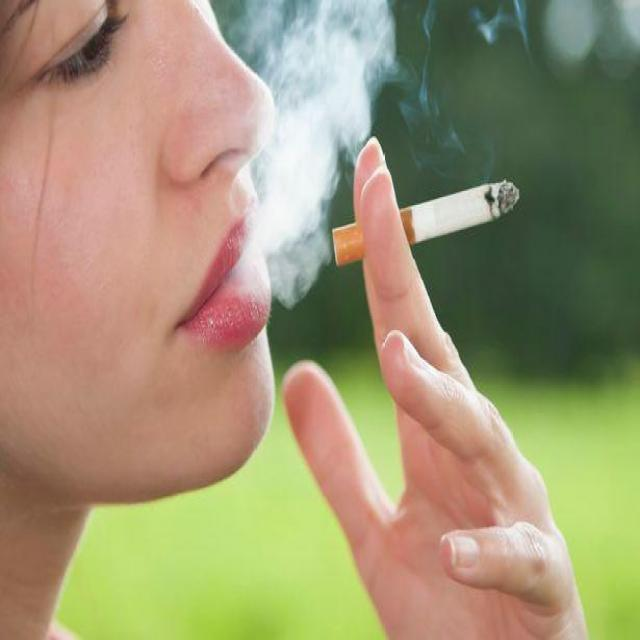cigarette: (332, 178, 522, 264)
